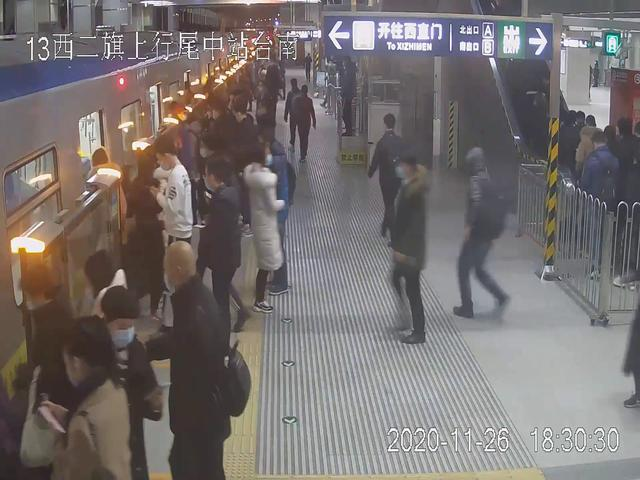person: (157, 238, 250, 480), (94, 287, 158, 480), (53, 313, 123, 480), (456, 144, 512, 328), (386, 151, 434, 348), (198, 157, 249, 338), (244, 140, 288, 316), (153, 140, 191, 299), (369, 111, 411, 236), (292, 84, 318, 160)
